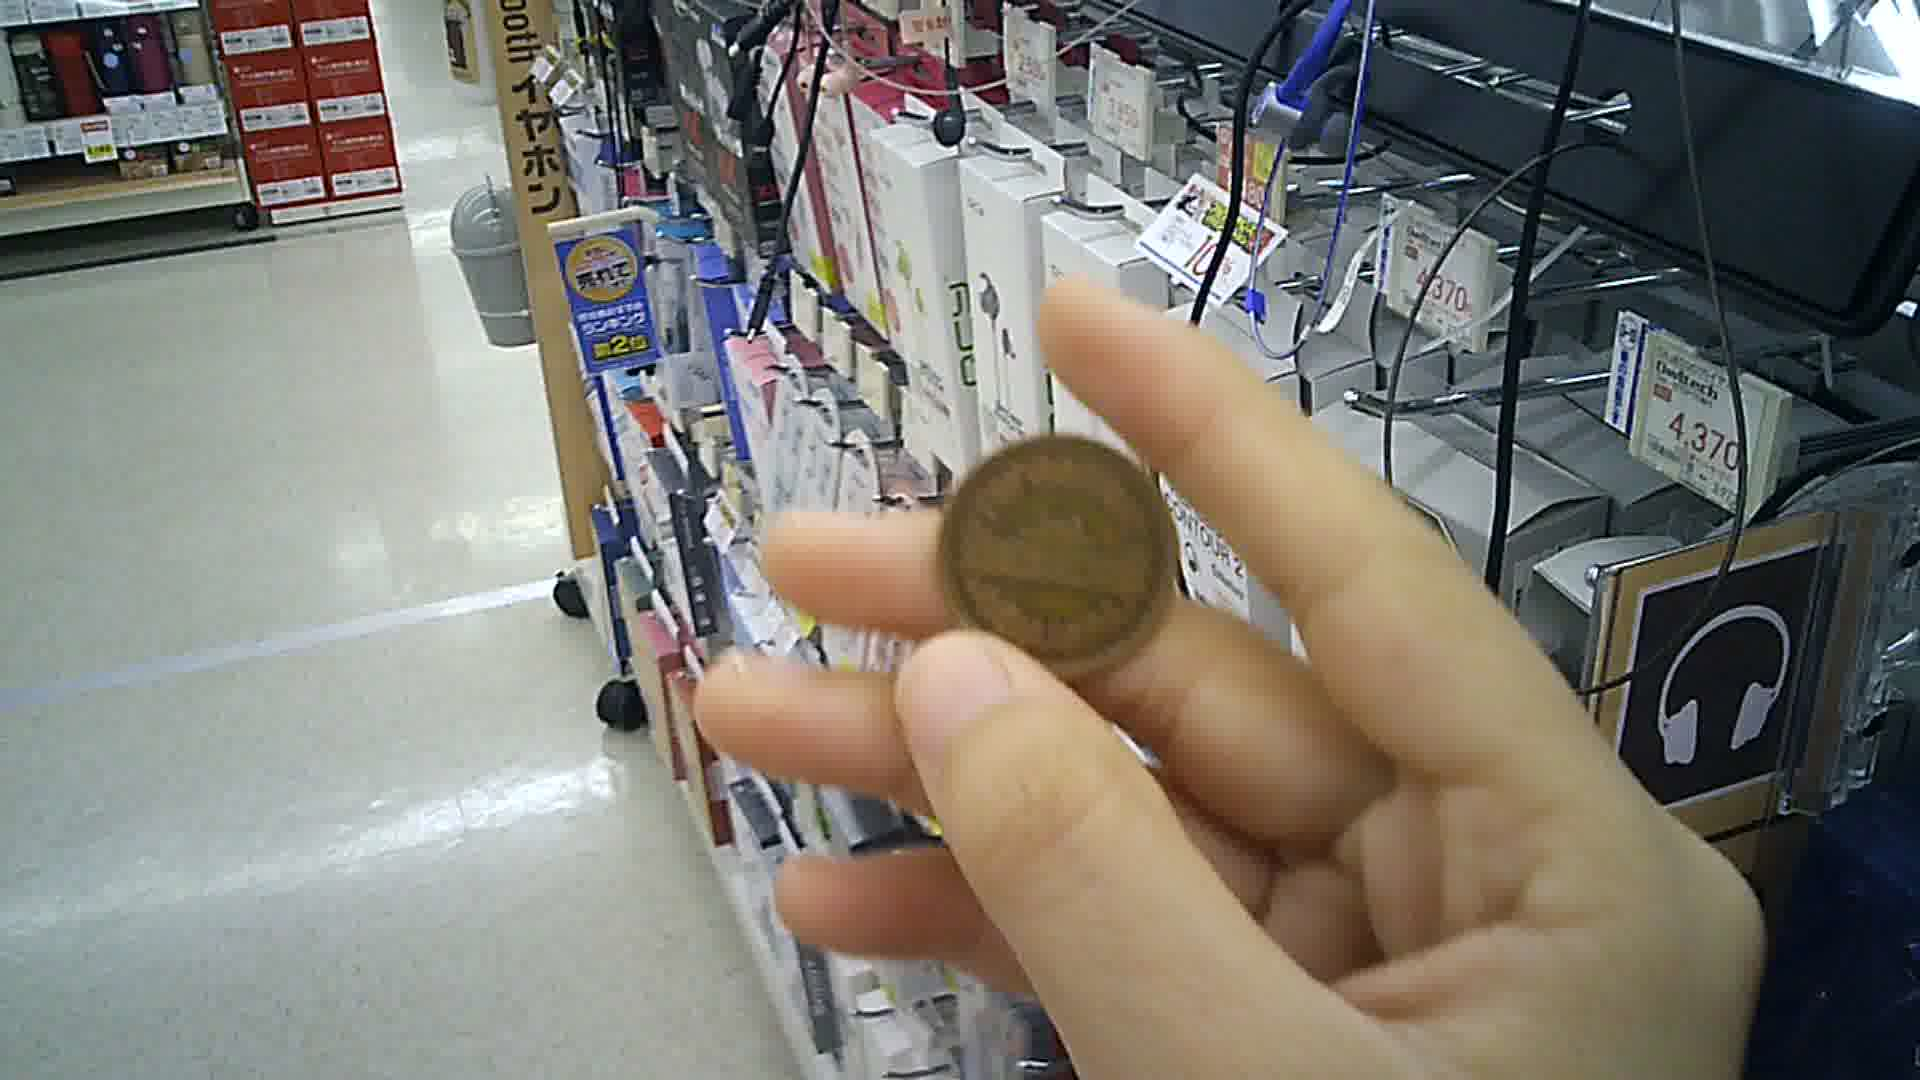10 Yen: (942, 434, 1192, 671)
